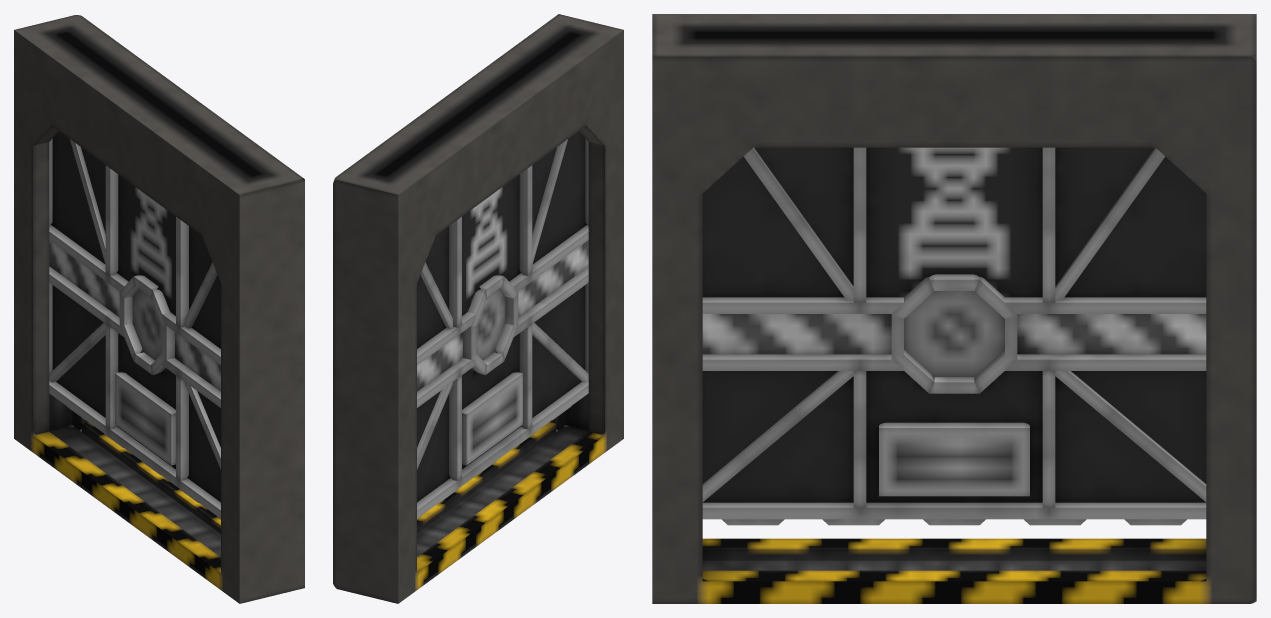
Rendered from qe_containment_20.obj.
3 renders of one model, left to right at view 1: azimuth 30°, elevation 25°; view 2: azimuth 150°, elevation 25°; view 3: azimuth 270°, elevation 25°, orthographic. The views are drawn at different scales.
Parts seen in each view (by area): view 1: Frame, Door; view 2: Frame, Door; view 3: Door, Frame.
Part boxes in pixels (bbox=[...]): Frame: bbox=[14, 15, 304, 603]; Door: bbox=[49, 131, 220, 519]; Frame: bbox=[333, 14, 623, 603]; Door: bbox=[417, 131, 588, 519]; Door: bbox=[702, 147, 1206, 525]; Frame: bbox=[652, 14, 1256, 603].
Size of the model in its own units: 0.5 by 3 by 3.
